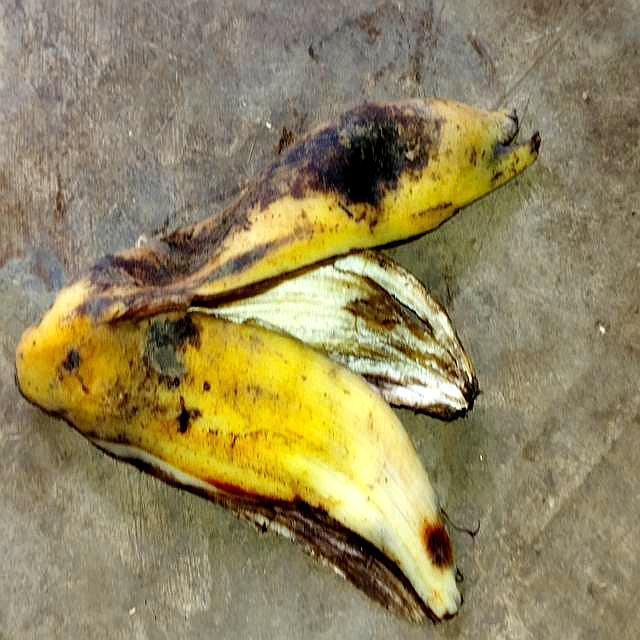Biodegradable: (19, 95, 535, 603)
